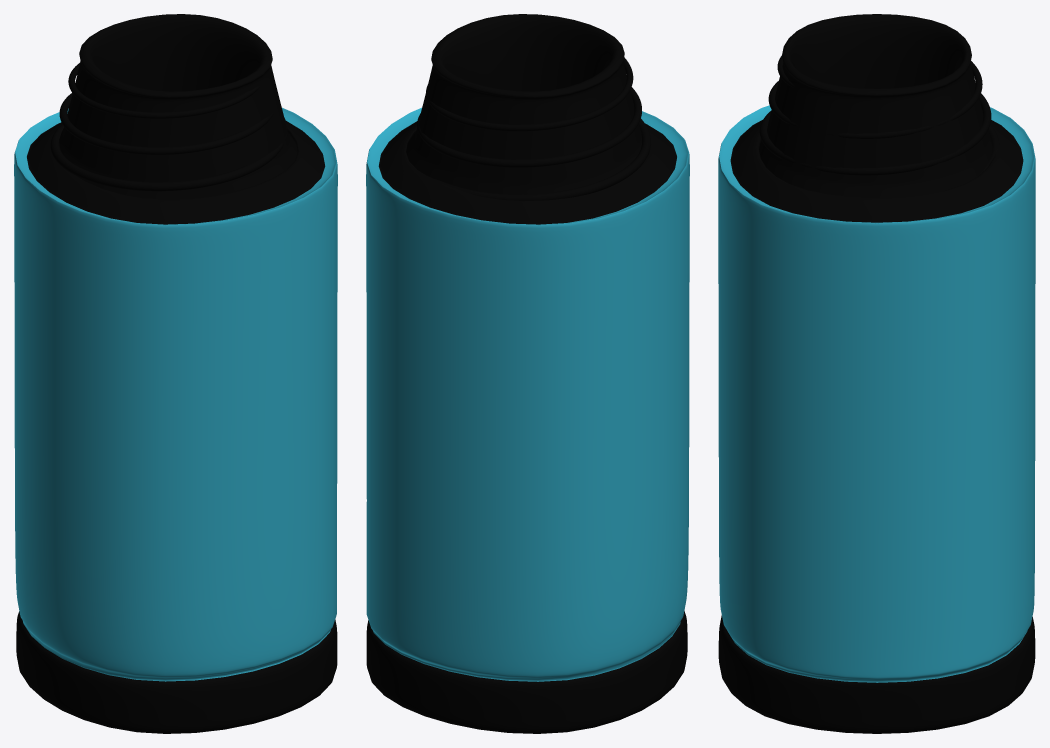
Rendered from Falsche3.fbx.
The picture shows the model from 3 angles, left to right: view 1: azimuth 30°, elevation 25°; view 2: azimuth 150°, elevation 25°; view 3: azimuth 270°, elevation 25°; orthographic projection.
Parts seen in each view (by area): view 1: Cube, Gewinde; view 2: Cube, Gewinde; view 3: Cube, Gewinde.
Part boxes in pixels (x1,y1,x2,y2): Cube: (14,14,337,733); Gewinde: (50,63,287,191); Cube: (366,14,689,733); Gewinde: (417,57,650,200); Cube: (718,14,1035,733); Gewinde: (759,55,999,175).
Bounding box in the file's own units: 13.89 × 29.91 × 13.89.
